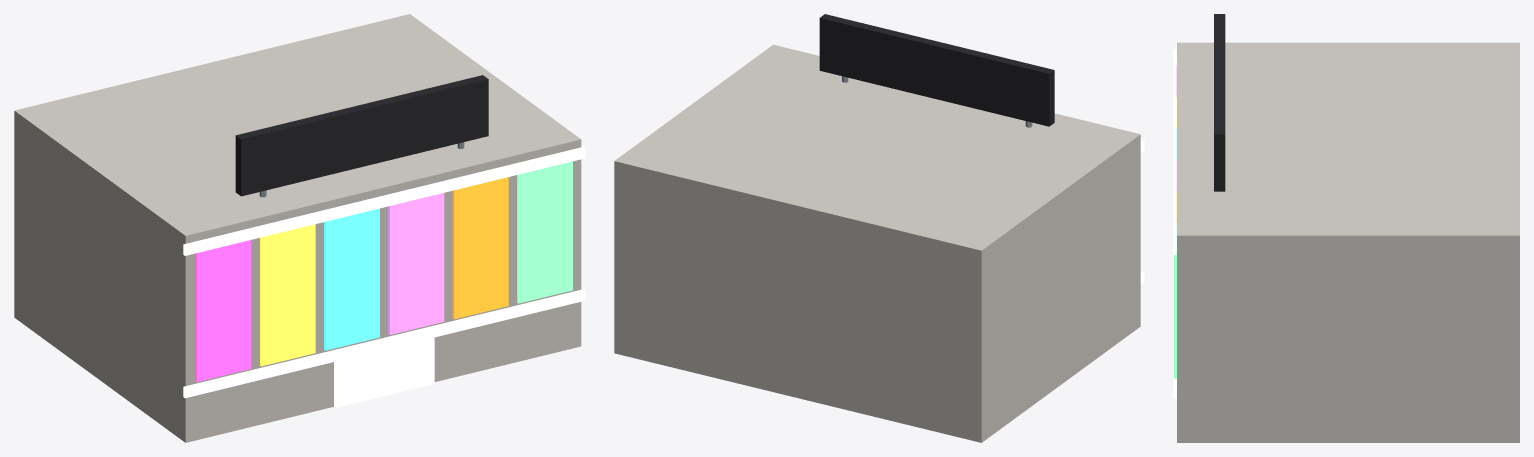
The model's file is pachinko.glb.
3 views of the same model, side by side, from view 1: azimuth 30°, elevation 25°; view 2: azimuth 150°, elevation 25°; view 3: azimuth 270°, elevation 25° (orthographic). The views are drawn at different scales.
Visible parts, largest first — view 1: pachinko; view 2: pachinko; view 3: pachinko.
Part boxes in pixels (box(x1,y1,x2,y2)): pachinko: box(14, 14, 585, 442); pachinko: box(614, 14, 1144, 442); pachinko: box(1173, 14, 1519, 442).
Bounding box in the file's own units: 16.2 × 10.5 × 12.13.
